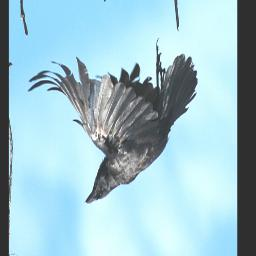Crow: (24, 36, 196, 208)
